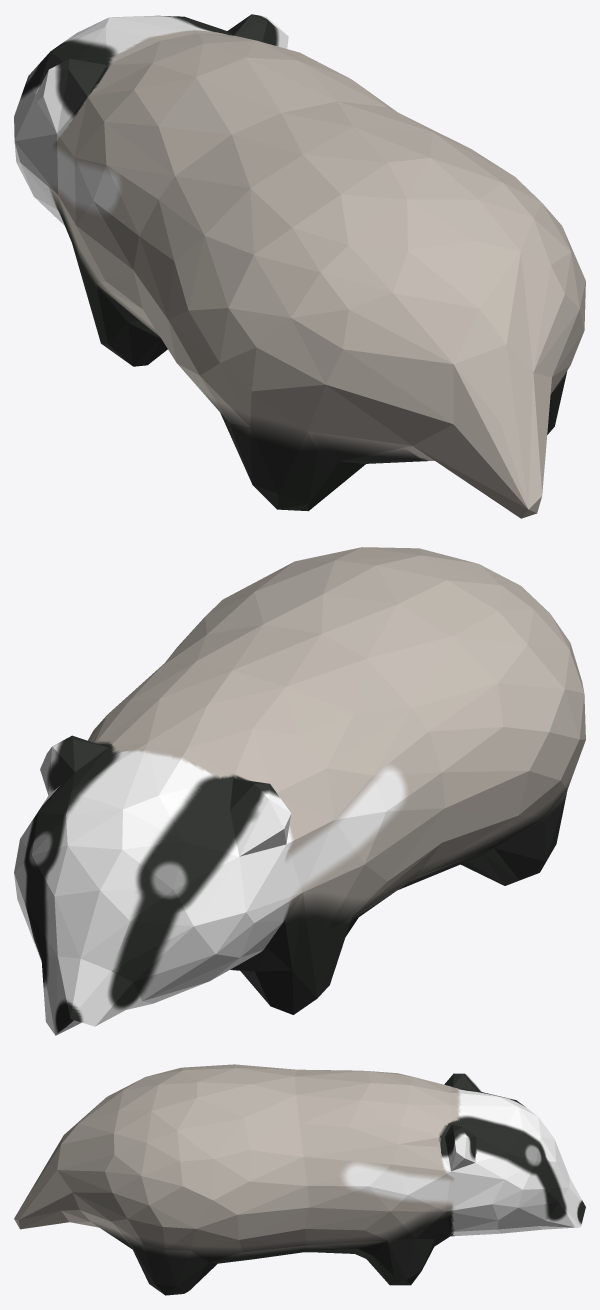
File: animal_badger_blob.obj
The picture shows the model from 3 angles, top to bottom: view 1: azimuth 30°, elevation 25°; view 2: azimuth 150°, elevation 25°; view 3: azimuth 270°, elevation 25°; orthographic projection. The views are drawn at different scales.
Parts seen in each view (by area): view 1: animal_badger_blob; view 2: animal_badger_blob; view 3: animal_badger_blob.
Part boxes in pixels (x1,y1,x2,y2): animal_badger_blob: [14, 14, 585, 518]; animal_badger_blob: [14, 547, 585, 1035]; animal_badger_blob: [14, 1064, 585, 1295].
Size of the model in its own units: 0.464 by 0.3707 by 1.06.
